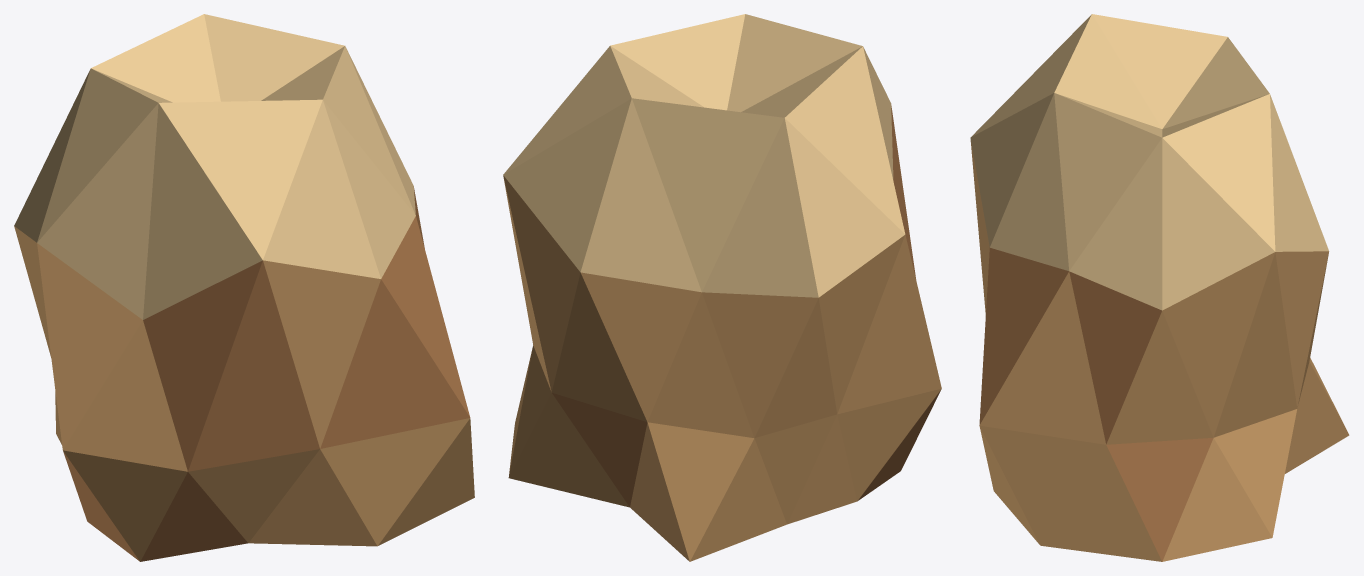
Rendered from DesertRock2.fbx.
3 views of the same model, side by side, from view 1: azimuth 30°, elevation 25°; view 2: azimuth 150°, elevation 25°; view 3: azimuth 270°, elevation 25° (orthographic). The views are drawn at different scales.
Parts seen in each view (by area): view 1: DesertRock2; view 2: DesertRock2; view 3: DesertRock2.
Boxes of the visible parts, x1=… form: DesertRock2: x1=14, y1=14, x2=474, y2=561; DesertRock2: x1=503, y1=14, x2=941, y2=561; DesertRock2: x1=970, y1=14, x2=1349, y2=561.
Size of the model in its own units: 3.2 by 3.29 by 2.8.
1 material, 1 textured.
